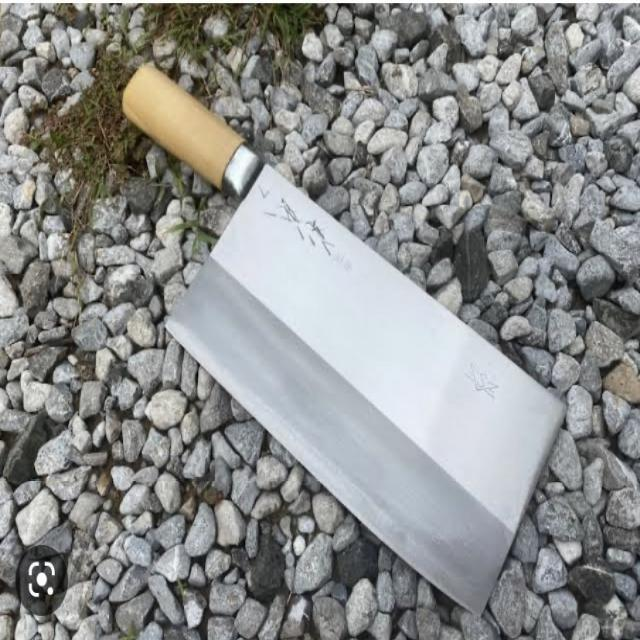Knife: (101, 64, 570, 623)
